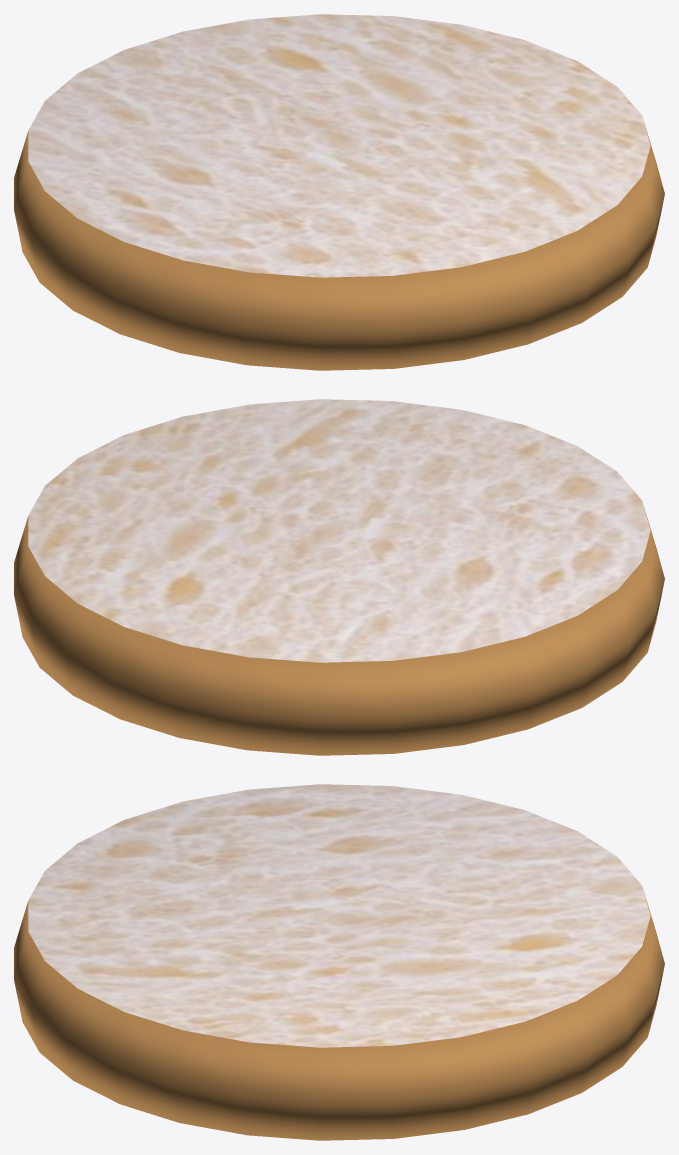
The model's file is хлеб.fbx.
The picture shows the model from 3 angles, top to bottom: view 1: azimuth 30°, elevation 25°; view 2: azimuth 150°, elevation 25°; view 3: azimuth 270°, elevation 25°; orthographic projection.
Parts seen in each view (by area): view 1: Cylinder.072; view 2: Cylinder.072; view 3: Cylinder.072.
Boxes of the visible parts, x1,y1,x2,y2 form: Cylinder.072: [14, 14, 664, 370]; Cylinder.072: [14, 399, 664, 755]; Cylinder.072: [14, 784, 664, 1140].
Bounding box in the file's own units: 18.12 × 2.78 × 18.09.
Materials: 2 (1 with a texture image).
